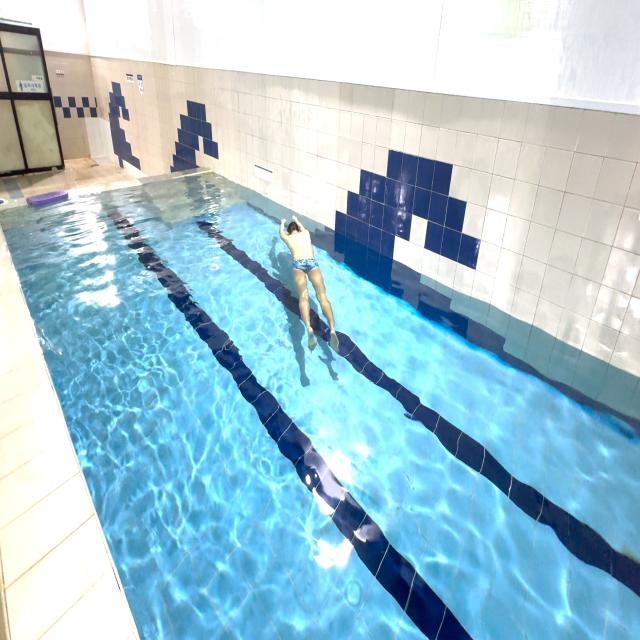Swimming: (268, 213, 344, 370)
